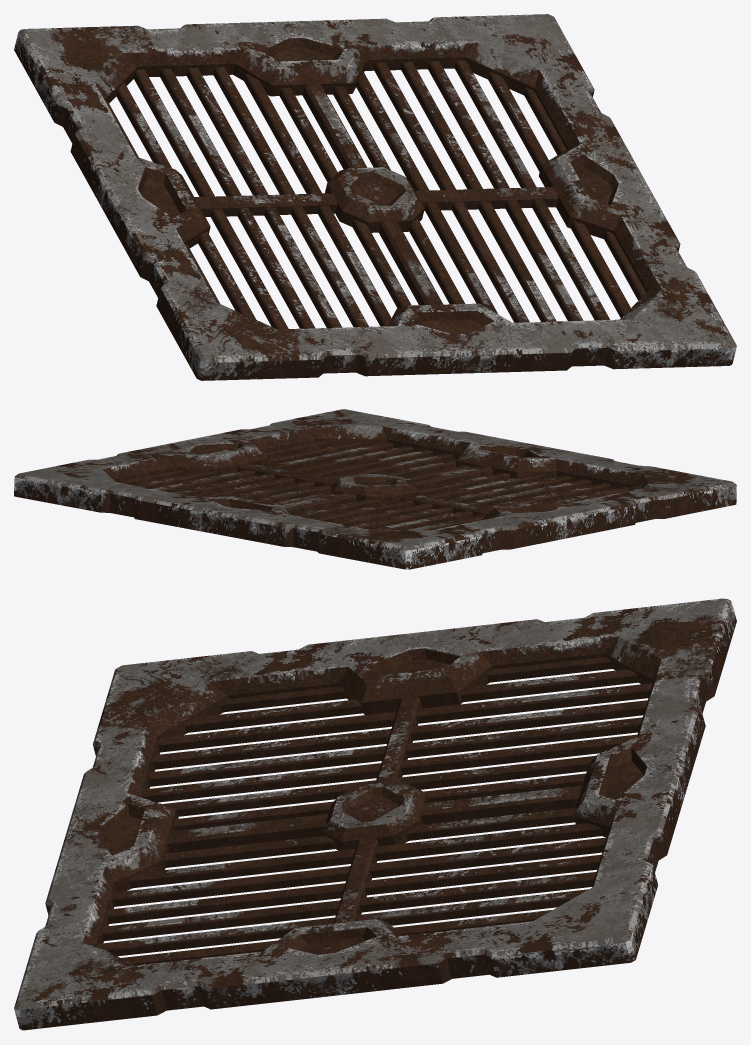
The model's file is metal.gltf.
3 renders of one model, top to bottom at view 1: azimuth 30°, elevation 25°; view 2: azimuth 150°, elevation 25°; view 3: azimuth 270°, elevation 25°, orthographic. The views are drawn at different scales.
Parts seen in each view (by area): view 1: Plane_0; view 2: Plane_0; view 3: Plane_0.
Part boxes in pixels (x1,y1,x2,y2): Plane_0: [14, 14, 736, 380]; Plane_0: [14, 409, 736, 569]; Plane_0: [14, 598, 736, 1030].
Bounding box in the file's own units: 13.34 × 4.33 × 12.91.
Materials: 1 (1 with a texture image).
